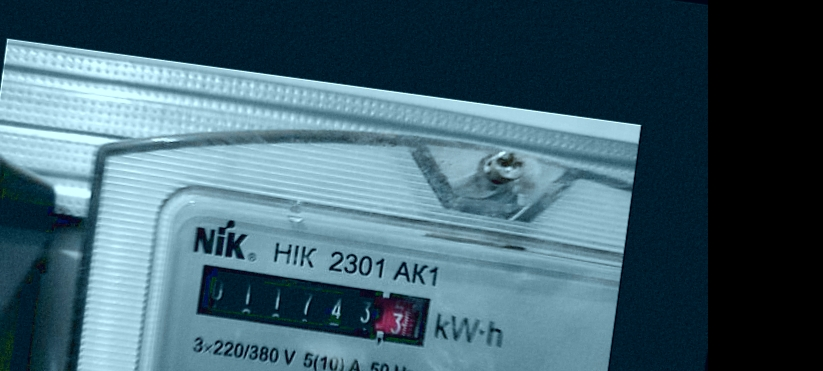0: (209, 274, 226, 303)
1: (269, 282, 285, 311), (241, 278, 254, 306)
3: (357, 297, 375, 326), (387, 310, 404, 337)
4: (327, 293, 345, 322)
7: (298, 286, 317, 316)
screen: (183, 252, 444, 359)
